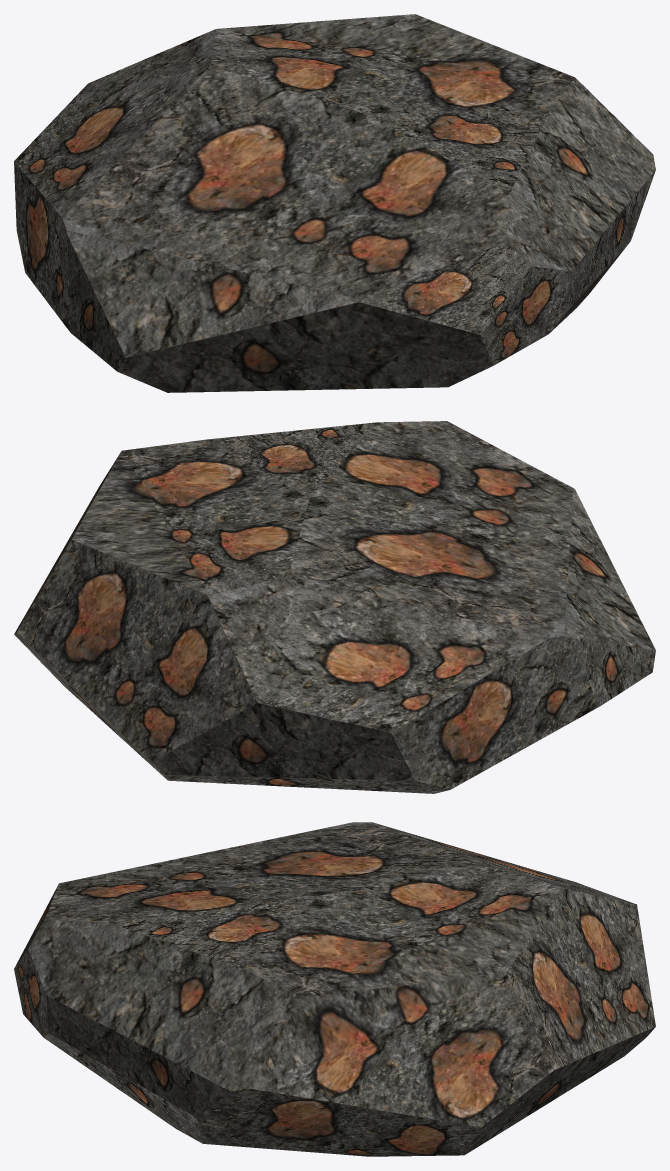
Rendered from iron_ore_3.fbx.
3 renders of one model, top to bottom at view 1: azimuth 30°, elevation 25°; view 2: azimuth 150°, elevation 25°; view 3: azimuth 270°, elevation 25°, orthographic. The views are drawn at different scales.
Parts seen in each view (by area): view 1: Rock_Type2_03_mesh; view 2: Rock_Type2_03_mesh; view 3: Rock_Type2_03_mesh.
Boxes of the visible parts, box(x1,y1,x2,y2) form: Rock_Type2_03_mesh: box(14, 14, 655, 392); Rock_Type2_03_mesh: box(14, 421, 655, 793); Rock_Type2_03_mesh: box(14, 822, 655, 1156).
Bounding box in the file's own units: 1.34 × 0.4382 × 1.39.
